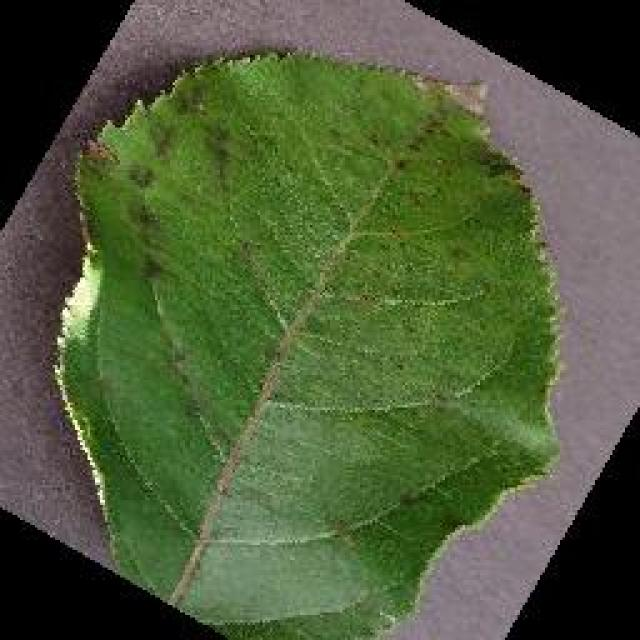apple scab disease: (50, 45, 565, 637)
